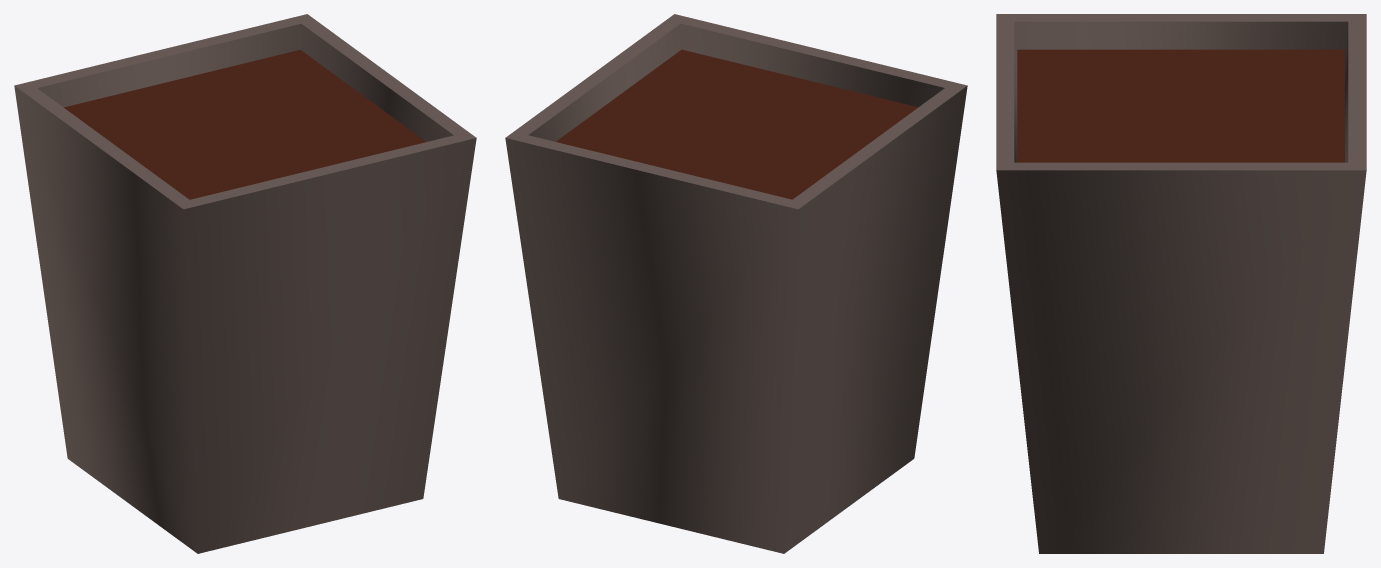
The model's file is SquarePot.fbx.
The picture shows the model from 3 angles, left to right: view 1: azimuth 30°, elevation 25°; view 2: azimuth 150°, elevation 25°; view 3: azimuth 270°, elevation 25°; orthographic projection. The views are drawn at different scales.
Parts seen in each view (by area): view 1: SquarePot; view 2: SquarePot; view 3: SquarePot.
Part boxes in pixels (left/top/right/bottom): SquarePot: left=14, top=14, right=476, bottom=553; SquarePot: left=505, top=14, right=967, bottom=553; SquarePot: left=996, top=14, right=1366, bottom=553.
Size of the model in its own units: 27.58 by 27.58 by 33.
